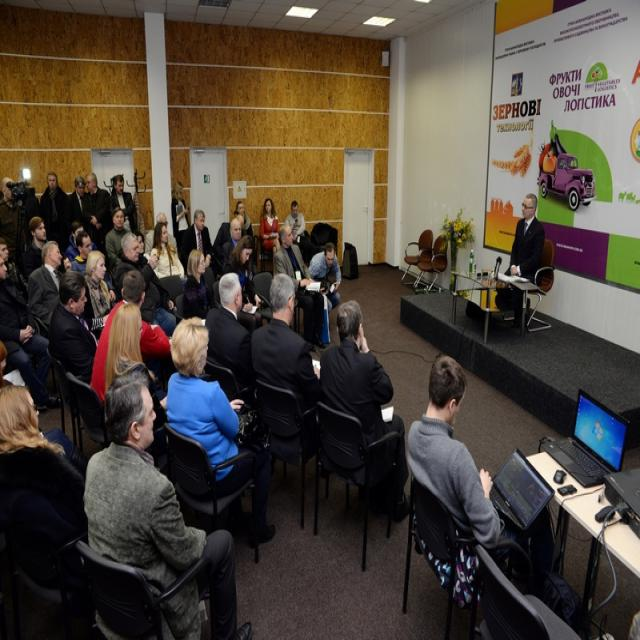body: (81, 367, 255, 639), (0, 172, 255, 298), (406, 352, 535, 582), (163, 314, 278, 548), (316, 297, 411, 524), (88, 268, 174, 408), (0, 252, 64, 414), (250, 271, 320, 411), (0, 381, 88, 481), (494, 190, 546, 330), (114, 231, 178, 339), (202, 271, 256, 398), (47, 270, 100, 387), (274, 224, 324, 343), (26, 238, 74, 328), (225, 234, 263, 330), (82, 170, 113, 273), (82, 249, 115, 345), (38, 170, 72, 255), (182, 207, 218, 283), (306, 241, 342, 312), (148, 220, 186, 283), (284, 199, 318, 268), (104, 206, 133, 276), (258, 197, 282, 279), (182, 248, 208, 320), (108, 174, 136, 234), (66, 175, 92, 236)
